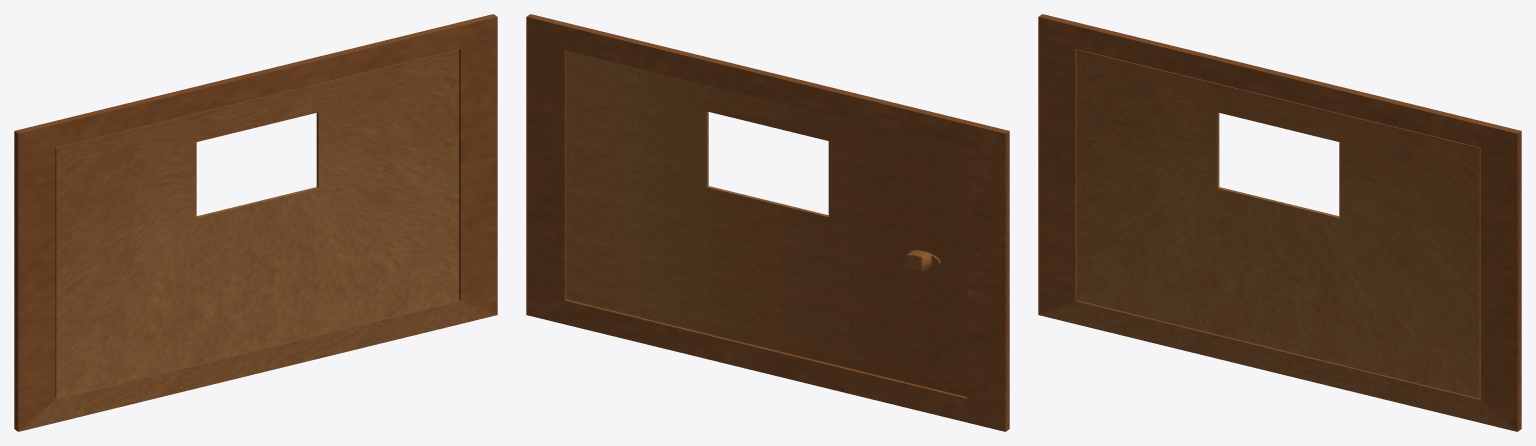
Rendered from bardoor.obj.
3 renders of one model, left to right at view 1: azimuth 30°, elevation 25°; view 2: azimuth 150°, elevation 25°; view 3: azimuth 330°, elevation 25°, orthographic.
Visible parts, largest first — view 1: Cube.002; view 2: Cube.002; view 3: Cube.002.
Part boxes in pixels (x1,y1,x2,y2): Cube.002: [14, 14, 497, 431]; Cube.002: [526, 14, 1009, 431]; Cube.002: [1038, 14, 1521, 431].
Bounding box in the file's own units: 14.39 × 8.56 × 0.4725.
